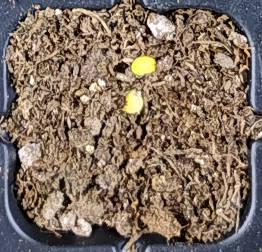chilli seed: (122, 88, 143, 113), (131, 56, 156, 75)
